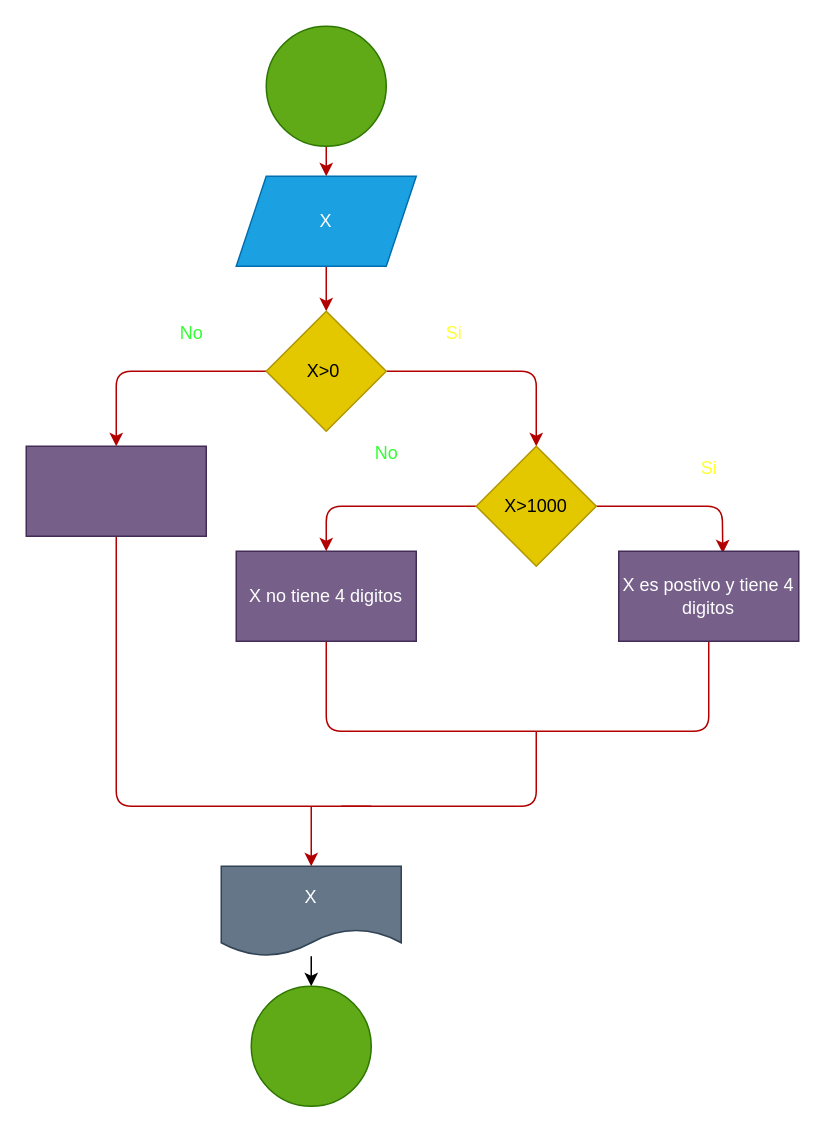
Some shapes in this 825 by 1133 pixel diagram are drawn without their labels. The centre of each missing label's shape, as x and y in pixels:
"Fin" belongs at (310,1045).
"Inicio" belongs at (325,85).
"X es negativo" belongs at (115,490).
